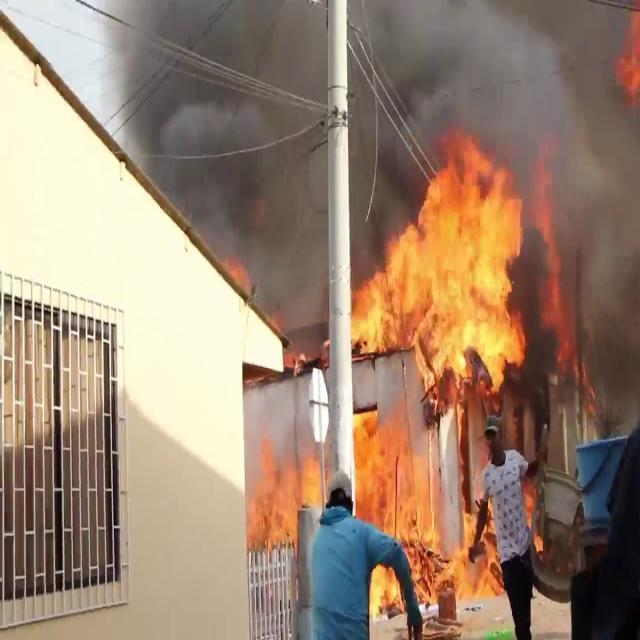Fire: (350, 132, 530, 622), (241, 429, 332, 551), (521, 471, 545, 556)
Smoke: (106, 0, 328, 314), (500, 3, 640, 433)
